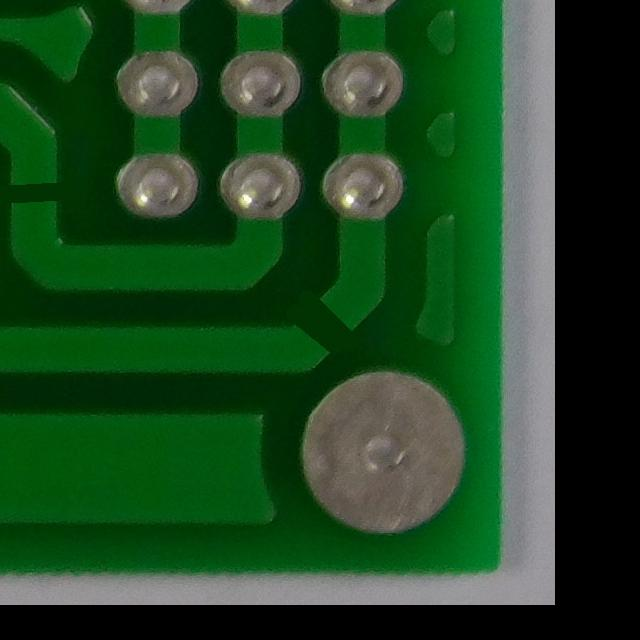open_circuit: (277, 274, 364, 366)
